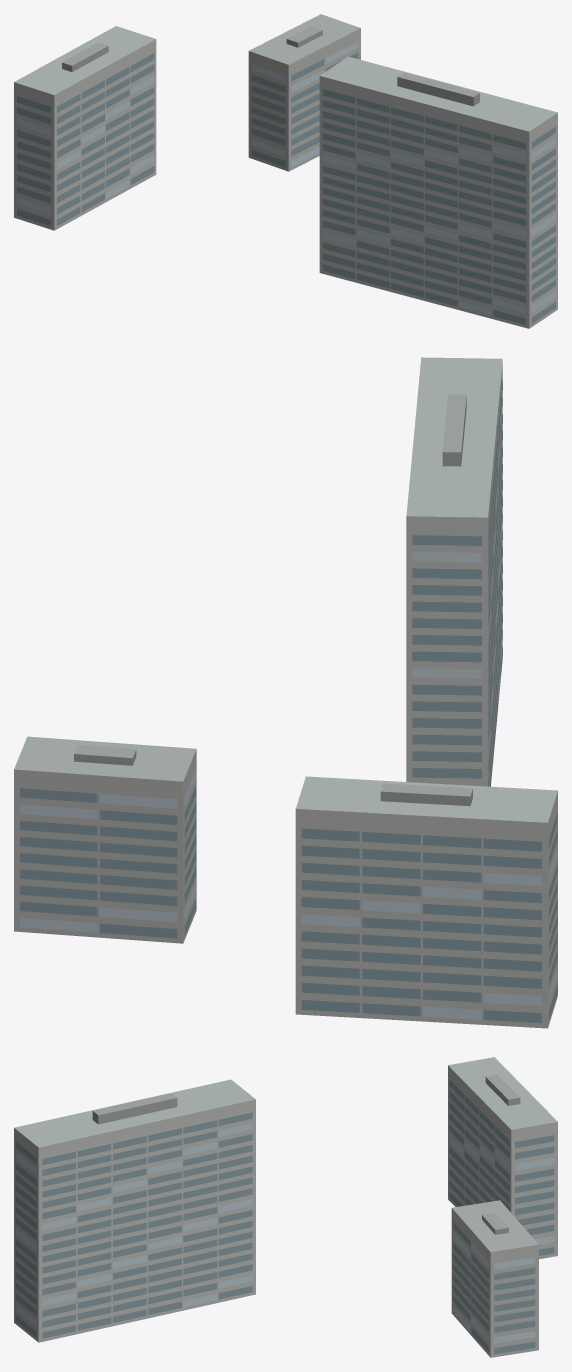
Rendered from apt-a10026289.glb.
The picture shows the model from 3 angles, top to bottom: view 1: azimuth 30°, elevation 25°; view 2: azimuth 150°, elevation 25°; view 3: azimuth 270°, elevation 25°; orthographic projection. The views are drawn at different scales.
Parts seen in each view (by area): view 1: apt-a10026289; view 2: apt-a10026289; view 3: apt-a10026289.
Boxes of the visible parts, box(x1,y1,x2,y2) form: apt-a10026289: box(14, 14, 557, 328); apt-a10026289: box(14, 357, 557, 1028); apt-a10026289: box(14, 1057, 557, 1357).
Size of the model in its own units: 83.95 by 48 by 116.
